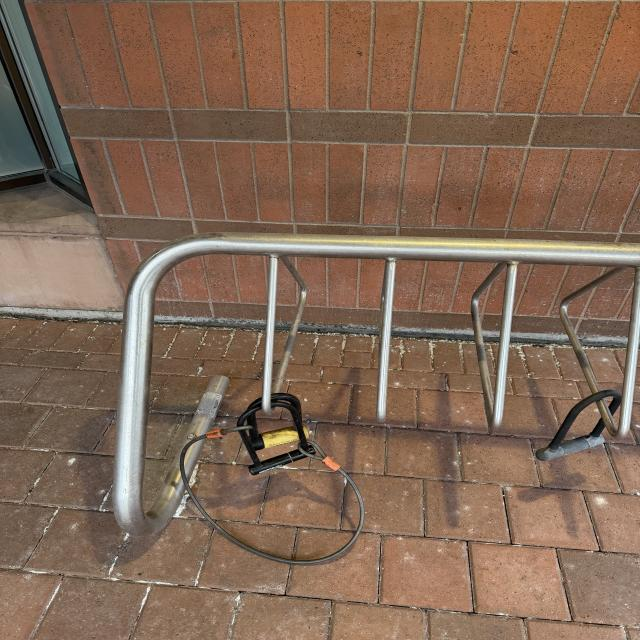Bicycle Rack: (108, 223, 640, 540)
